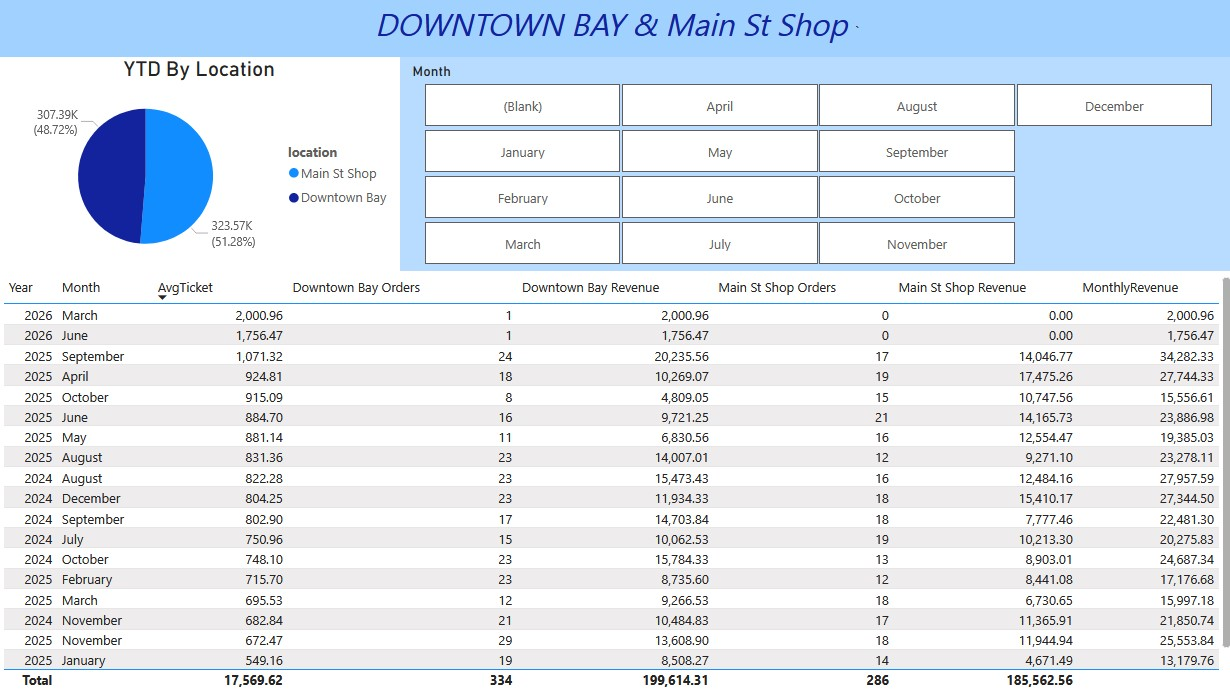

This screenshot's page, from the dashboard's own definition file:
{"tool":"powerbi","page":{"name":"Location","canvas":[1280,720],"ordinal":0},"visuals":[{"type":"pieChart","title":"YTD By Location","fields":{"Category":["Revenue Location.location"],"Y":["Sum(Revenue Location.YTD)"]},"box":[0,62.4,415.8,221.1],"z":0},{"type":"tableEx","fields":{"Values":["Rev & WO Location.WorkOrderMonth.Variation.Date Hierarchy.Year","Rev & WO Location.WorkOrderMonth.Variation.Date Hierarchy.Month","Sum(Rev & WO Location.AvgTicket)","Sum(Rev & WO Location.Downtown_Bay_Orders)","Sum(Rev & WO Location.Downtown_Bay_Revenue)","Sum(Rev & WO Location.Main_St_Shop_Orders)","Sum(Rev & WO Location.Main_St_Shop_Revenue)","Rev & WO Location.MonthlyRevenue"]},"box":[0,283.5,1279.4,436.5],"z":1000},{"type":"textbox","box":[0,0,1279.4,62.4],"z":2000},{"type":"slicer","fields":{"Values":["Rev & WO Location.WorkOrderMonth.Variation.Date Hierarchy.Month"]},"box":[416,62,863,221],"z":3000}]}

Visuals, with their boxes in screenshot pixels (x1, y1, x2, y2), scaled from the page's 1280x720 canvas onto the 1230x693 screenshot:
"YTD By Location" pieChart: (0,60,400,273)
tableEx - Rev & WO Location.WorkOrderMonth.Variation.Date Hierarchy.Year x Rev & WO Location.WorkOrderMonth.Variation.Date Hierarchy.Month: (0,273,1229,692)
textbox: (0,0,1229,60)
slicer - Rev & WO Location.WorkOrderMonth.Variation.Date Hierarchy.Month: (400,60,1229,272)
